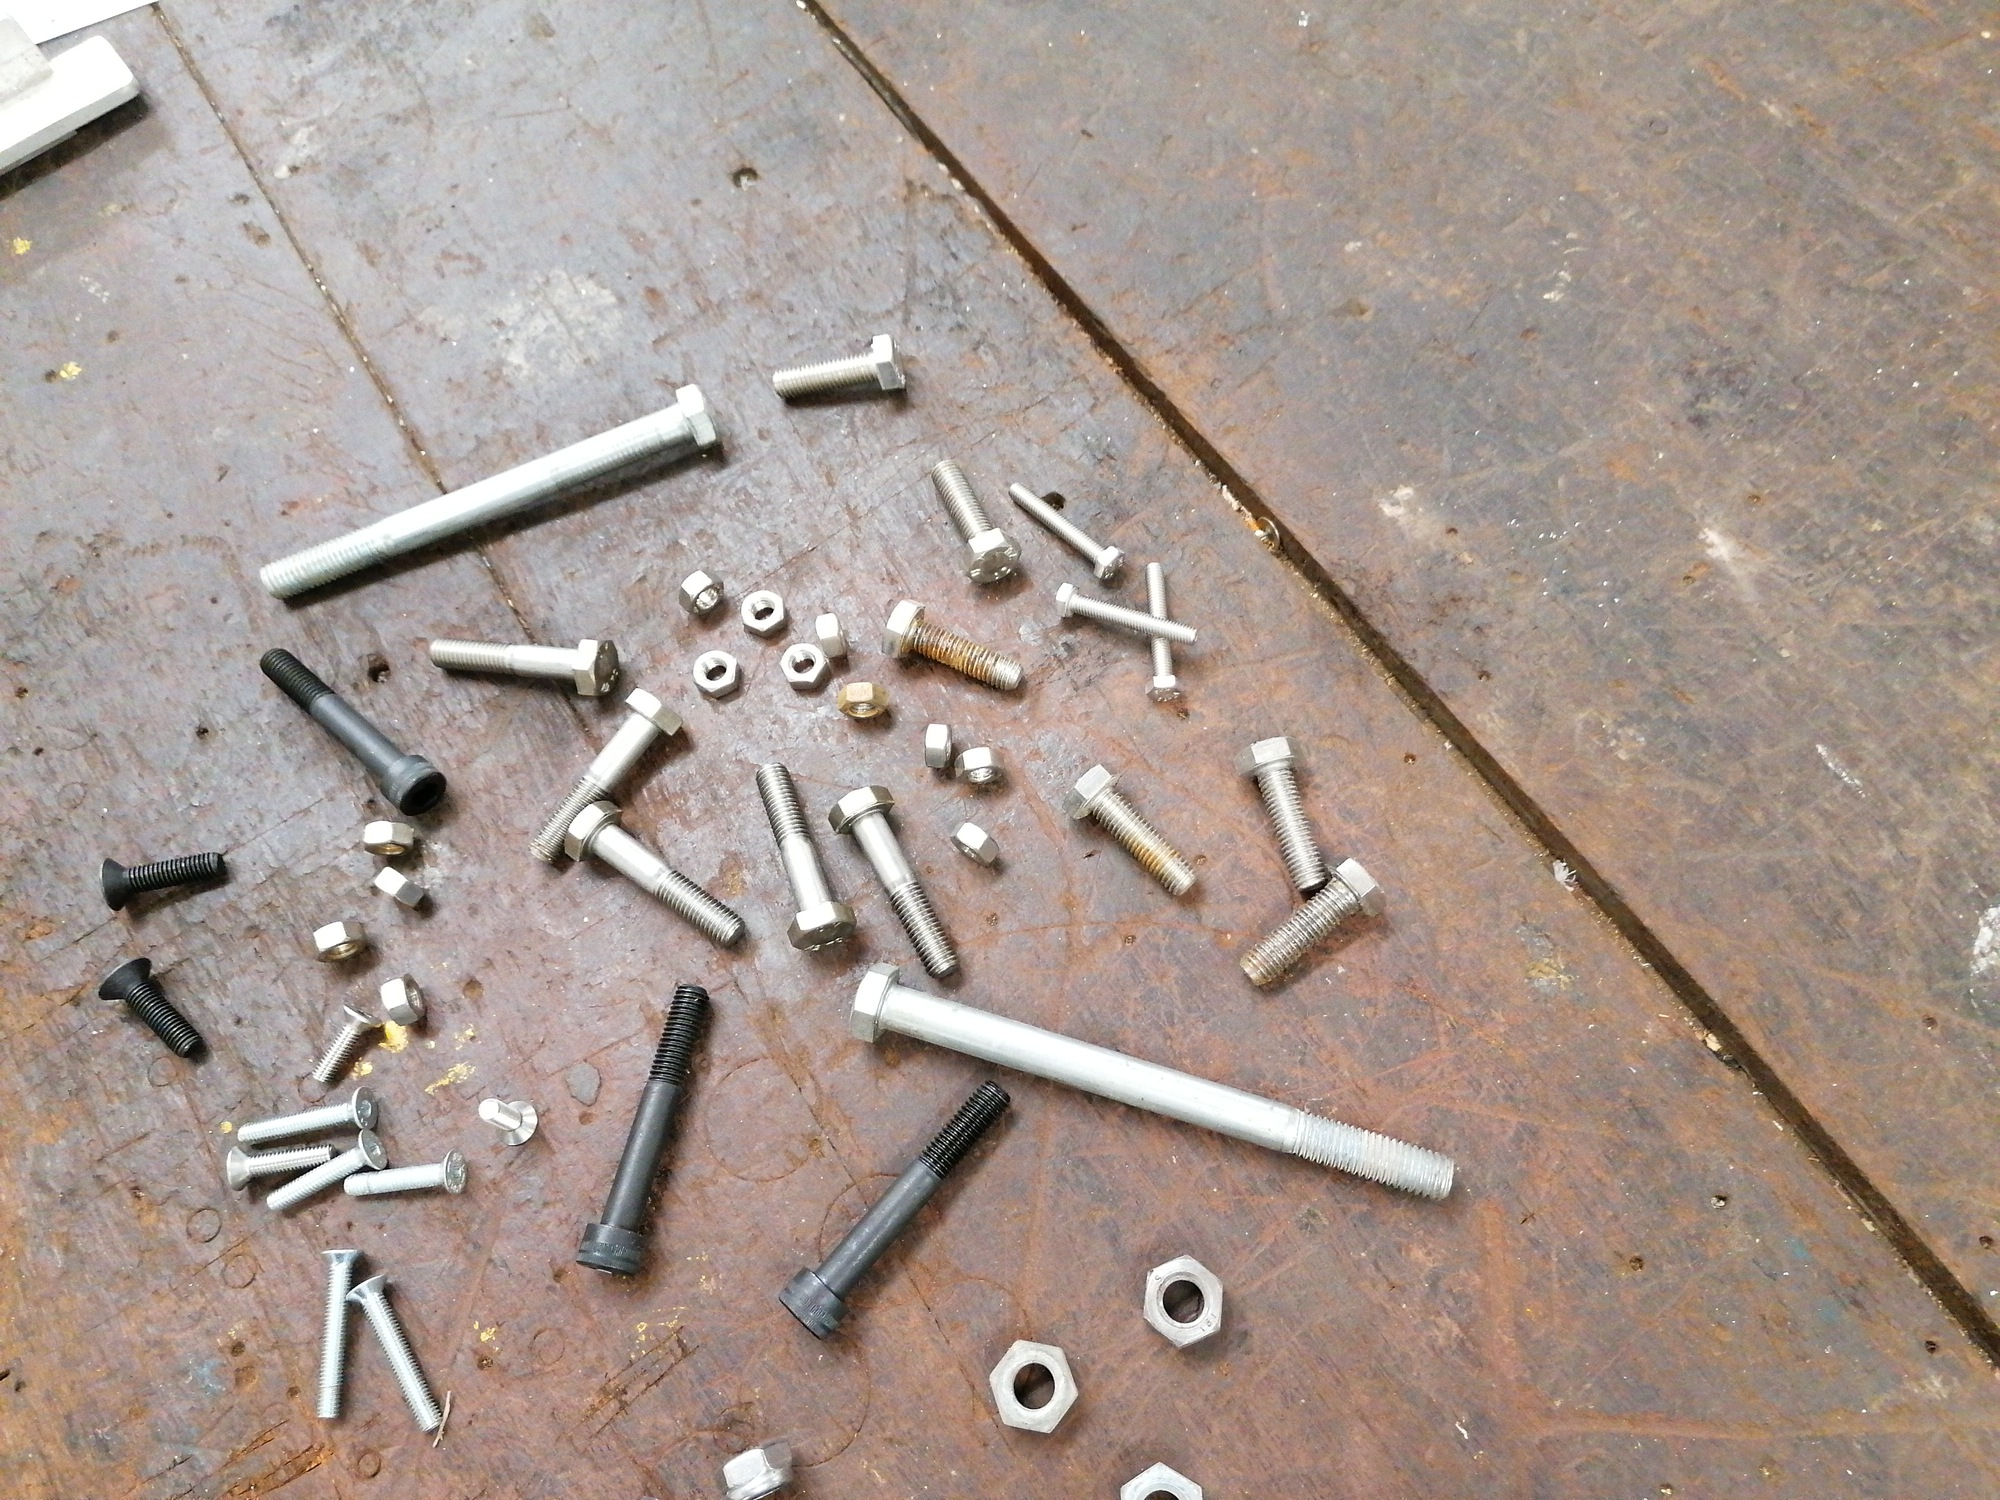bolt: (847, 960, 1457, 1201), (257, 381, 720, 599), (776, 1078, 1011, 1341), (575, 985, 709, 1276), (258, 644, 446, 815), (526, 685, 683, 868), (564, 800, 746, 947), (827, 785, 961, 978), (1236, 857, 1384, 989), (754, 763, 857, 952), (1061, 759, 1198, 897), (345, 1272, 443, 1434), (1236, 734, 1329, 893), (879, 597, 1025, 692), (427, 633, 620, 700), (1006, 481, 1126, 581), (931, 459, 1020, 585), (98, 955, 205, 1059), (265, 1128, 387, 1212), (1054, 580, 1200, 646), (770, 332, 907, 400), (986, 1338, 1080, 1435), (1137, 1249, 1227, 1350), (235, 1086, 378, 1145), (315, 1246, 362, 1420), (98, 851, 227, 912), (343, 1145, 469, 1202), (1142, 559, 1184, 704), (310, 1001, 380, 1084), (225, 1141, 335, 1190), (720, 1435, 795, 1500), (1118, 1457, 1205, 1500), (476, 1093, 539, 1145), (378, 971, 427, 1027), (690, 648, 742, 700), (776, 641, 831, 690), (369, 865, 425, 909), (309, 920, 367, 963), (950, 819, 1002, 867), (739, 588, 787, 637), (679, 566, 723, 618), (361, 819, 416, 857), (953, 745, 1003, 786), (836, 681, 888, 720), (813, 611, 847, 659), (921, 722, 953, 770)
